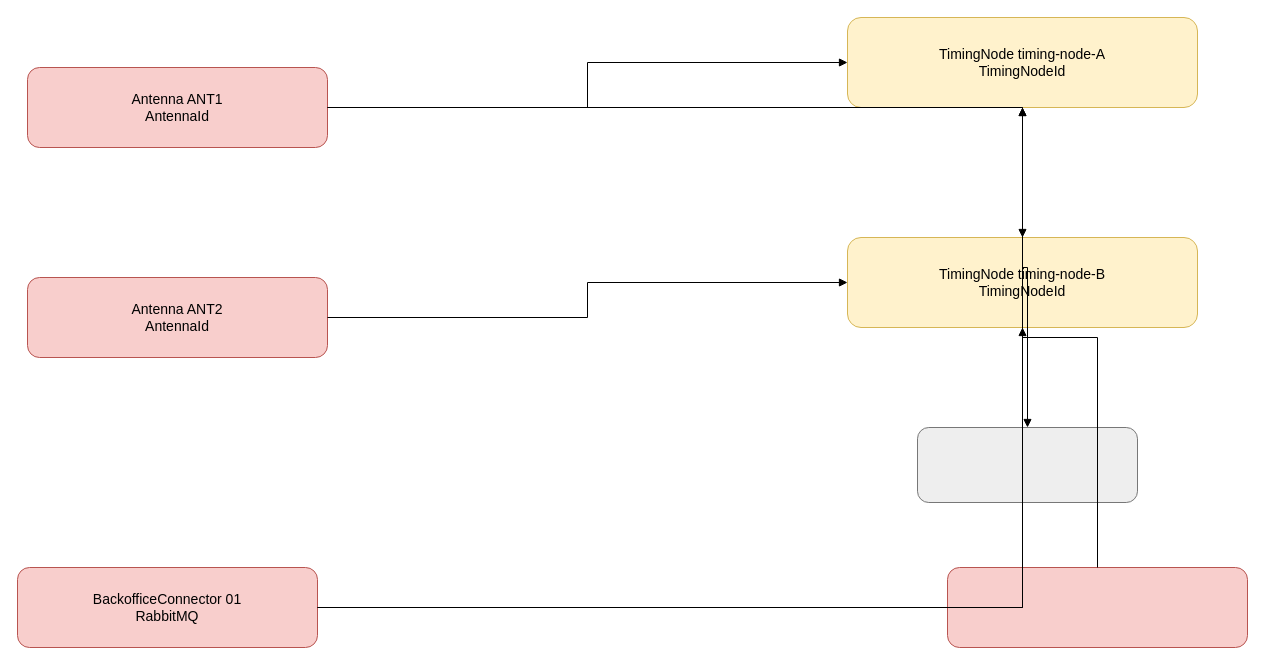
Some shapes in this 1265 by 665 pixel diagram are drawn without their labels. Here are the shapes that lost their labels. From the top down, the centre of each, then its label:
At (x=1027, y=464): "Location X LocationID".
At (x=1097, y=607): "BackofficeConnector 02 RabbitMQ".
